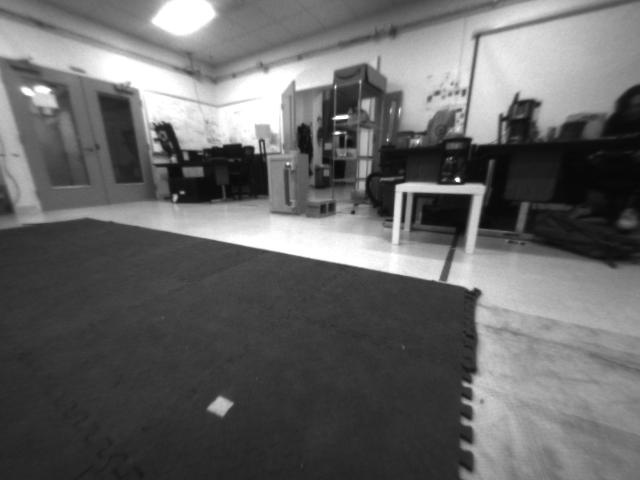coffee_pot: (436, 137, 472, 186)
